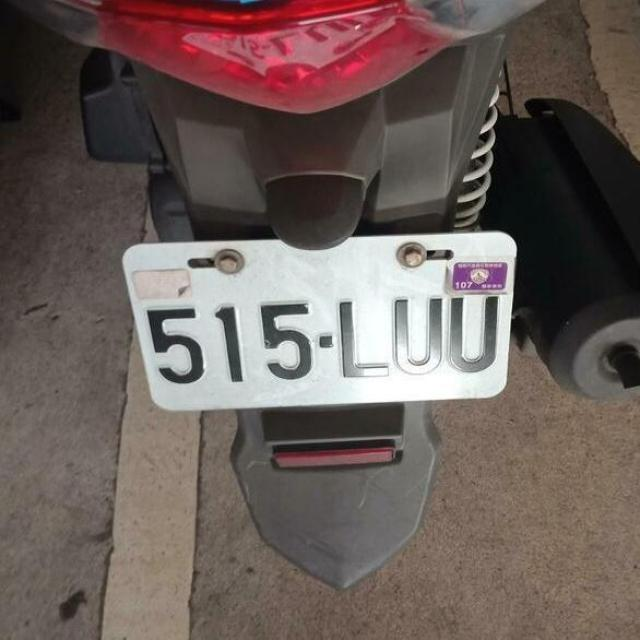W: (112, 212, 530, 414)
